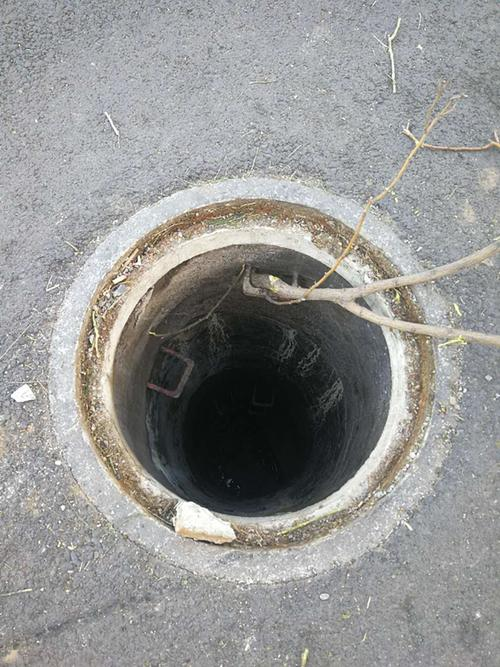lose: (43, 176, 470, 584)
